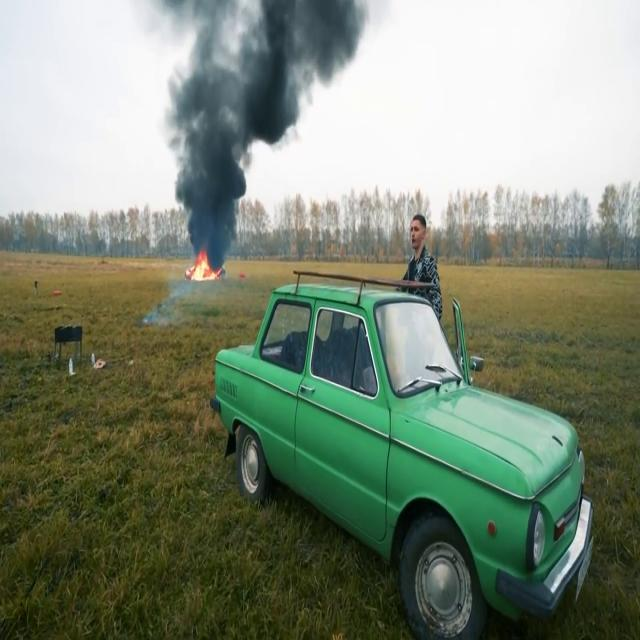Fire: (188, 243, 223, 286)
Smoke: (166, 0, 350, 233)
